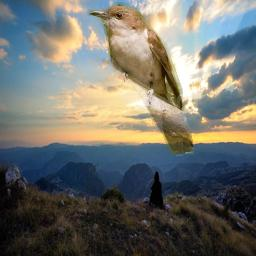Cuckoo: (87, 2, 194, 156)
